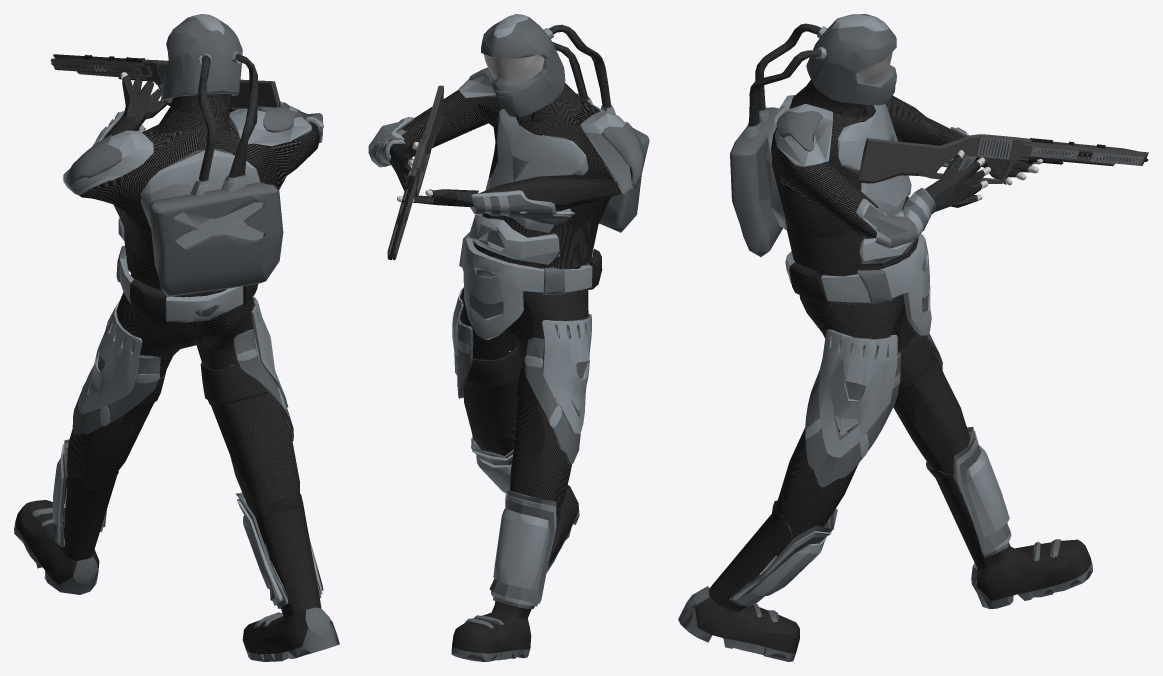
The model's file is AndarEscopeta.0014.obj.
3 renders of one model, left to right at view 1: azimuth 30°, elevation 25°; view 2: azimuth 150°, elevation 25°; view 3: azimuth 270°, elevation 25°, orthographic. The views are drawn at different scales.
Parts seen in each view (by area): view 1: personaje:extrudedSurface2 polySurface102, personaje:bota1 polySurface102, personaje:PANTALON polySurface102, personaje:CAMISETABUENA polySurface102, personaje:pPipe4 polySurface102, personaje:pCube4 polySurface102, personaje:cosoarmdaurapierna1 polySurface102, personaje:cinturon polySurface102, escopeta:Cylinder001 polySurface102, personaje:polySurface6 polySurface102, personaje:armadbota1 polySurface102, personaje:cosoarmadurapierna2 polySurface102 (+3 smaller); view 2: personaje:CAMISETABUENA polySurface102, personaje:pPipe4 polySurface102, personaje:PANTALON polySurface102, personaje:extrudedSurface2 polySurface102, personaje:cinturon polySurface102, personaje:pCube4 polySurface102, personaje:armadbota1 polySurface102, personaje:bota1 polySurface102, personaje:cosoarmdaurapierna1 polySurface102, escopeta:Cylinder001 polySurface102, personaje:polySurface6 polySurface102, personaje:polySurface2 polySurface102 (+6 smaller); view 3: personaje:bota1 polySurface102, personaje:CAMISETABUENA polySurface102, personaje:PANTALON polySurface102, personaje:extrudedSurface2 polySurface102, personaje:pPipe4 polySurface102, personaje:pCube4 polySurface102, escopeta:Cylinder001 polySurface102, personaje:cinturon polySurface102, personaje:armadbota1 polySurface102, personaje:cosoarmadurapierna2 polySurface102, personaje:hombro1 polySurface102, personaje:polySurface6 polySurface102 (+2 smaller).
Part boxes in pixels (<box>): personaje:extrudedSurface2 polySurface102: <box>148,14,283,296</box>; personaje:bota1 polySurface102: <box>14,471,339,661</box>; personaje:PANTALON polySurface102: <box>66,274,299,542</box>; personaje:CAMISETABUENA polySurface102: <box>77,94,319,322</box>; personaje:pPipe4 polySurface102: <box>63,75,323,240</box>; personaje:pCube4 polySurface102: <box>52,296,323,608</box>; personaje:cosoarmdaurapierna1 polySurface102: <box>78,301,159,426</box>; personaje:cinturon polySurface102: <box>116,245,258,323</box>; escopeta:Cylinder001 polySurface102: <box>50,54,281,109</box>; personaje:polySurface6 polySurface102: <box>135,362,268,407</box>; personaje:armadbota1 polySurface102: <box>52,443,322,605</box>; personaje:cosoarmadurapierna2 polySurface102: <box>229,328,293,441</box>; personaje:CAMISETABUENA polySurface102: <box>386,56,638,294</box>; personaje:pPipe4 polySurface102: <box>368,75,636,264</box>; personaje:PANTALON polySurface102: <box>460,256,588,516</box>; personaje:extrudedSurface2 polySurface102: <box>481,14,649,232</box>; personaje:cinturon polySurface102: <box>459,229,602,340</box>; personaje:pCube4 polySurface102: <box>452,288,587,608</box>; personaje:armadbota1 polySurface102: <box>470,438,556,606</box>; personaje:bota1 polySurface102: <box>451,484,579,661</box>; personaje:cosoarmdaurapierna1 polySurface102: <box>524,314,591,433</box>; escopeta:Cylinder001 polySurface102: <box>387,85,443,260</box>; personaje:polySurface6 polySurface102: <box>466,345,538,402</box>; personaje:polySurface2 polySurface102: <box>472,194,571,224</box>; personaje:bota1 polySurface102: <box>678,461,1092,661</box>; personaje:CAMISETABUENA polySurface102: <box>771,80,964,305</box>; personaje:PANTALON polySurface102: <box>775,255,970,556</box>; personaje:extrudedSurface2 polySurface102: <box>730,14,896,256</box>; personaje:pPipe4 polySurface102: <box>764,95,1033,263</box>; personaje:pCube4 polySurface102: <box>729,329,1010,607</box>; escopeta:Cylinder001 polySurface102: <box>858,134,1148,183</box>; personaje:cinturon polySurface102: <box>785,234,931,335</box>; personaje:armadbota1 polySurface102: <box>733,431,1011,605</box>; personaje:cosoarmadurapierna2 polySurface102: <box>805,337,900,487</box>; personaje:hombro1 polySurface102: <box>776,110,822,151</box>; personaje:polySurface6 polySurface102: <box>897,335,934,383</box>.
Bounding box in the file's own units: 4.22 × 9.47 × 6.4.
